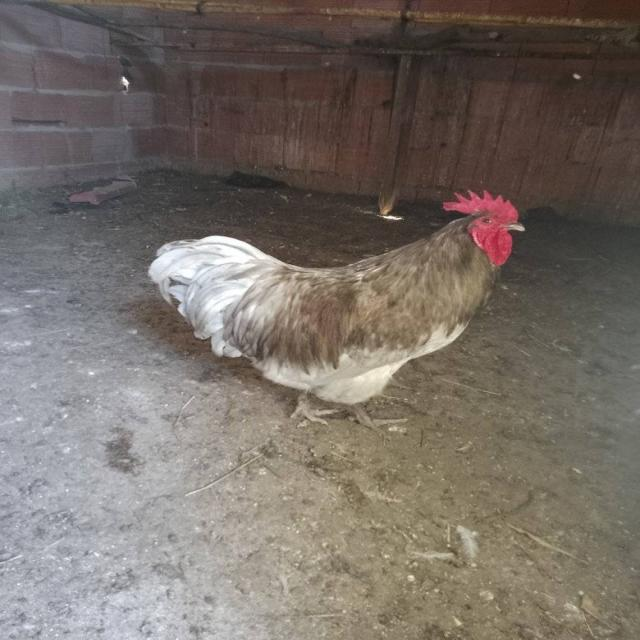Healthy: (140, 182, 536, 458)
